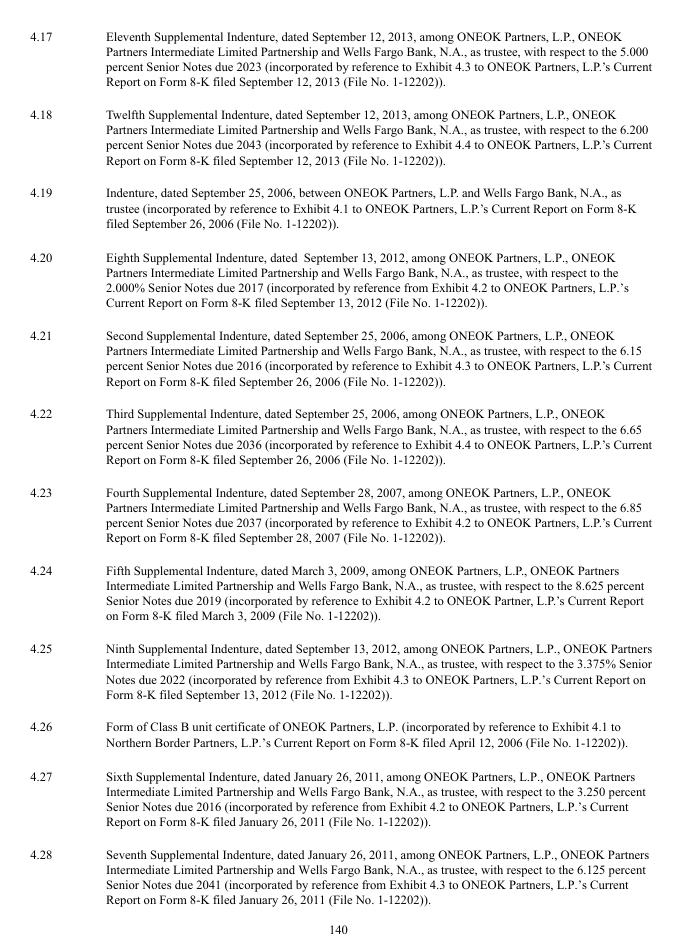table: (29, 28, 651, 906)
table column: (78, 28, 651, 906), (29, 28, 78, 906)
table row: (29, 239, 651, 318), (29, 474, 651, 553), (29, 758, 651, 837), (29, 97, 651, 175), (29, 318, 651, 396), (29, 396, 651, 474), (29, 553, 651, 631), (29, 631, 651, 709), (29, 28, 651, 97), (29, 837, 651, 906), (29, 175, 651, 239), (29, 709, 651, 758)
